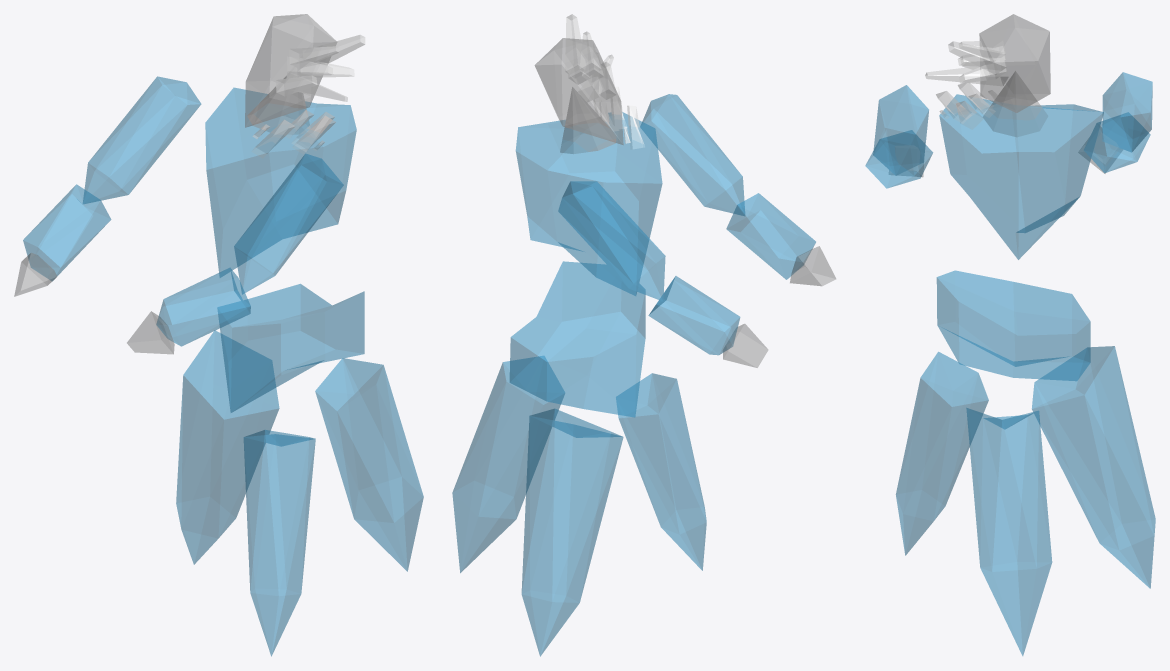
The model's file is ghostDistanceAttack4.obj.
The picture shows the model from 3 angles, left to right: view 1: azimuth 30°, elevation 25°; view 2: azimuth 150°, elevation 25°; view 3: azimuth 270°, elevation 25°; orthographic projection. The views are drawn at different scales.
Visible parts, largest first — view 1: Cube.001_Cube.007, Icosphere.020, Icosphere.019, Cube_Cube.007, Icosphere.018, Icosphere.007_Icosphere.006, Icosphere.005_Icosphere.007, Icosphere.003_Icosphere.007, Icosphere.008_Icosphere.006, Icosphere.006_Icosphere.006, Cone_Cone.007, Cube.002_Cube.007 (+7 smaller); view 2: Cube.001_Cube.007, Icosphere.020, Cube_Cube.007, Icosphere.019, Icosphere.018, Icosphere.007_Icosphere.006, Icosphere.005_Icosphere.007, Icosphere.003_Icosphere.007, Icosphere.006_Icosphere.006, Icosphere.008_Icosphere.006, Cone_Cone.007, Cube.003_Cube.007 (+3 smaller); view 3: Cube.001_Cube.007, Icosphere.020, Icosphere.019, Cube_Cube.007, Icosphere.018, Icosphere.003_Icosphere.007, Icosphere.005_Icosphere.007, Icosphere.007_Icosphere.006, Icosphere.008_Icosphere.006, Cone_Cone.007, Icosphere.006_Icosphere.006, Cube.009_Cube.006 (+5 smaller).
Boxes of the visible parts, x1,y1,x2,y2 form: Cube.001_Cube.007: [205, 87, 356, 277]; Icosphere.020: [176, 330, 279, 564]; Icosphere.019: [315, 358, 423, 571]; Cube_Cube.007: [217, 284, 364, 412]; Icosphere.018: [243, 430, 315, 656]; Icosphere.007_Icosphere.006: [83, 76, 201, 203]; Icosphere.005_Icosphere.007: [234, 153, 343, 294]; Icosphere.003_Icosphere.007: [245, 14, 336, 127]; Icosphere.008_Icosphere.006: [23, 184, 111, 281]; Icosphere.006_Icosphere.006: [156, 267, 250, 346]; Cone_Cone.007: [247, 76, 309, 134]; Cube.002_Cube.007: [127, 311, 174, 354]; Cube.001_Cube.007: [515, 112, 662, 295]; Icosphere.020: [521, 408, 623, 656]; Cube_Cube.007: [509, 261, 645, 417]; Icosphere.019: [452, 356, 564, 572]; Icosphere.018: [616, 373, 706, 570]; Icosphere.007_Icosphere.006: [558, 181, 665, 300]; Icosphere.005_Icosphere.007: [640, 94, 744, 215]; Icosphere.003_Icosphere.007: [534, 38, 623, 144]; Icosphere.006_Icosphere.006: [726, 193, 815, 279]; Icosphere.008_Icosphere.006: [648, 276, 740, 355]; Cone_Cone.007: [560, 87, 615, 153]; Cube.003_Cube.007: [723, 324, 768, 367]; Cube.001_Cube.007: [939, 94, 1103, 259]; Icosphere.020: [1032, 346, 1155, 588]; Icosphere.019: [966, 408, 1052, 655]; Cube_Cube.007: [936, 270, 1090, 381]; Icosphere.018: [896, 352, 988, 555]; Icosphere.003_Icosphere.007: [979, 14, 1050, 112]; Icosphere.005_Icosphere.007: [873, 85, 928, 175]; Icosphere.007_Icosphere.006: [1102, 72, 1152, 152]; Icosphere.008_Icosphere.006: [1084, 112, 1150, 172]; Cone_Cone.007: [983, 71, 1047, 136]; Icosphere.006_Icosphere.006: [865, 130, 932, 188]; Cube.009_Cube.006: [948, 41, 1006, 74].
Size of the model in its own units: 30.06 by 47.49 by 21.46.
